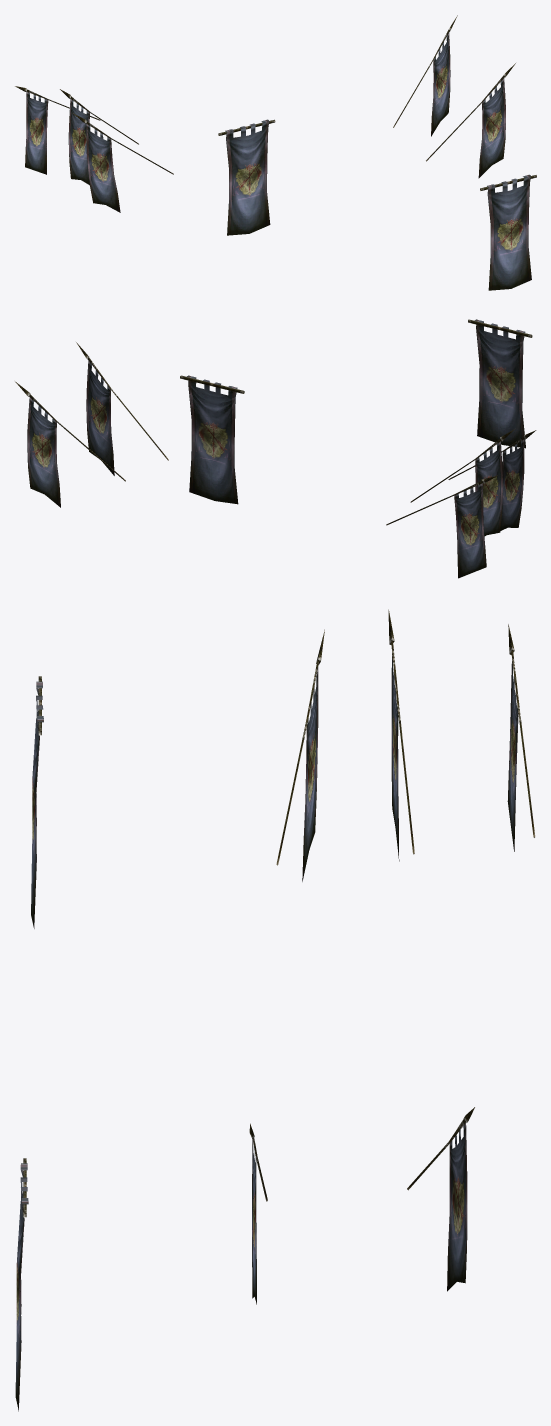
Rendered from OZ_22_mi_btflag02A.glb.
The picture shows the model from 3 angles, top to bottom: view 1: azimuth 30°, elevation 25°; view 2: azimuth 150°, elevation 25°; view 3: azimuth 270°, elevation 25°; orthographic projection. The views are drawn at different scales.
Parts seen in each view (by area): view 1: OM_22_mi_btflag02A; view 2: OM_22_mi_btflag02A; view 3: OM_22_mi_btflag02A.
Boxes of the visible parts, x1=… form: OM_22_mi_btflag02A: x1=15, y1=15, x2=536, y2=290; OM_22_mi_btflag02A: x1=15, y1=319, x2=536, y2=578; OM_22_mi_btflag02A: x1=15, y1=609, x2=535, y2=1411.
Size of the model in its own units: 28.61 by 13.84 by 14.7.
1 material, 1 textured.
